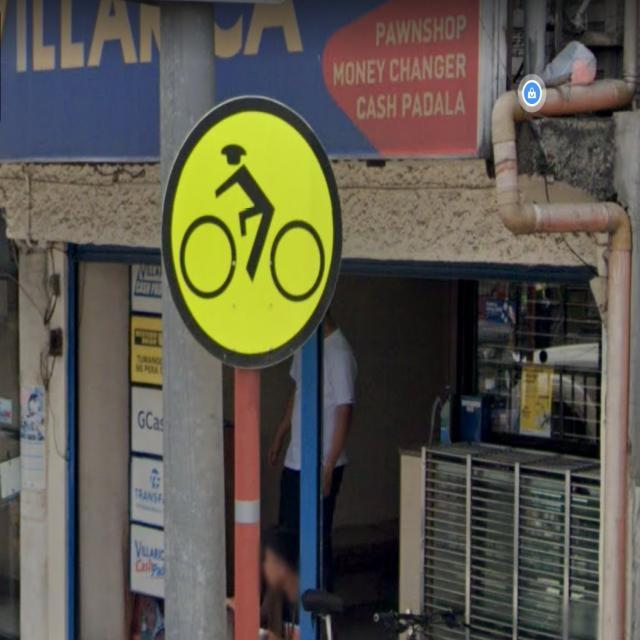bike lane: (160, 94, 343, 368)
